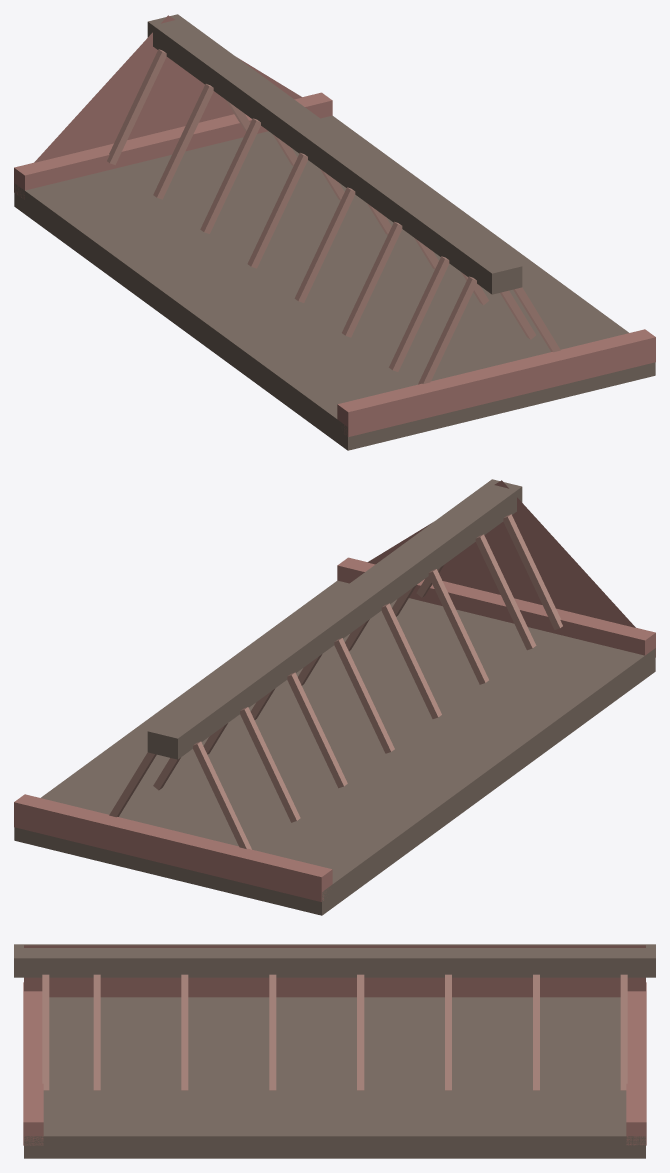
The model's file is telhado_canto_vermelho.glb.
3 renders of one model, top to bottom at view 1: azimuth 30°, elevation 25°; view 2: azimuth 150°, elevation 25°; view 3: azimuth 270°, elevation 25°, orthographic. The views are drawn at different scales.
Visible parts, largest first — view 1: telhado_canto_vermelho_part_001, telhado_canto_vermelho_part_018, telhado_canto_vermelho_part_020, telhado_canto_vermelho_part_000, telhado_canto_vermelho_part_019, telhado_canto_vermelho_part_010, telhado_canto_vermelho_part_012, telhado_canto_vermelho_part_004, telhado_canto_vermelho_part_006, telhado_canto_vermelho_part_014, telhado_canto_vermelho_part_008, telhado_canto_vermelho_part_002 (+2 smaller); view 2: telhado_canto_vermelho_part_001, telhado_canto_vermelho_part_018, telhado_canto_vermelho_part_019, telhado_canto_vermelho_part_000, telhado_canto_vermelho_part_020, telhado_canto_vermelho_part_006, telhado_canto_vermelho_part_008, telhado_canto_vermelho_part_010, telhado_canto_vermelho_part_012, telhado_canto_vermelho_part_014, telhado_canto_vermelho_part_004, telhado_canto_vermelho_part_016 (+2 smaller); view 3: telhado_canto_vermelho_part_001, telhado_canto_vermelho_part_018, telhado_canto_vermelho_part_000, telhado_canto_vermelho_part_020, telhado_canto_vermelho_part_019, telhado_canto_vermelho_part_009, telhado_canto_vermelho_part_011, telhado_canto_vermelho_part_013, telhado_canto_vermelho_part_015, telhado_canto_vermelho_part_003, telhado_canto_vermelho_part_017, telhado_canto_vermelho_part_005 (+1 smaller).
Part boxes in pixels (bbox=[...]): telhado_canto_vermelho_part_001: bbox=[14, 115, 655, 450]; telhado_canto_vermelho_part_018: bbox=[147, 14, 522, 294]; telhado_canto_vermelho_part_020: bbox=[337, 329, 655, 436]; telhado_canto_vermelho_part_000: bbox=[34, 15, 302, 162]; telhado_canto_vermelho_part_019: bbox=[14, 92, 332, 199]; telhado_canto_vermelho_part_010: bbox=[294, 187, 355, 302]; telhado_canto_vermelho_part_012: bbox=[342, 221, 402, 337]; telhado_canto_vermelho_part_004: bbox=[153, 84, 213, 199]; telhado_canto_vermelho_part_006: bbox=[200, 118, 260, 233]; telhado_canto_vermelho_part_014: bbox=[389, 256, 449, 371]; telhado_canto_vermelho_part_008: bbox=[247, 153, 307, 268]; telhado_canto_vermelho_part_002: bbox=[107, 49, 166, 164]; telhado_canto_vermelho_part_001: bbox=[14, 580, 655, 915]; telhado_canto_vermelho_part_018: bbox=[147, 479, 522, 759]; telhado_canto_vermelho_part_019: bbox=[14, 794, 332, 901]; telhado_canto_vermelho_part_000: bbox=[367, 480, 635, 627]; telhado_canto_vermelho_part_020: bbox=[337, 557, 655, 657]; telhado_canto_vermelho_part_006: bbox=[287, 672, 347, 788]; telhado_canto_vermelho_part_008: bbox=[334, 638, 394, 753]; telhado_canto_vermelho_part_010: bbox=[381, 603, 441, 718]; telhado_canto_vermelho_part_012: bbox=[428, 569, 488, 684]; telhado_canto_vermelho_part_014: bbox=[475, 534, 536, 650]; telhado_canto_vermelho_part_004: bbox=[240, 707, 300, 822]; telhado_canto_vermelho_part_016: bbox=[503, 514, 562, 629]; telhado_canto_vermelho_part_001: bbox=[24, 997, 645, 1158]; telhado_canto_vermelho_part_018: bbox=[14, 944, 655, 977]; telhado_canto_vermelho_part_000: bbox=[24, 945, 645, 997]; telhado_canto_vermelho_part_020: bbox=[23, 982, 43, 1145]; telhado_canto_vermelho_part_019: bbox=[626, 982, 646, 1145]; telhado_canto_vermelho_part_009: bbox=[357, 974, 364, 1090]; telhado_canto_vermelho_part_011: bbox=[269, 974, 276, 1090]; telhado_canto_vermelho_part_013: bbox=[181, 974, 188, 1090]; telhado_canto_vermelho_part_015: bbox=[93, 974, 100, 1090]; telhado_canto_vermelho_part_003: bbox=[620, 974, 627, 1090]; telhado_canto_vermelho_part_017: bbox=[42, 974, 49, 1090]; telhado_canto_vermelho_part_005: bbox=[533, 974, 539, 1090].
Size of the model in its own units: 2.45 by 1.17 by 4.75.
